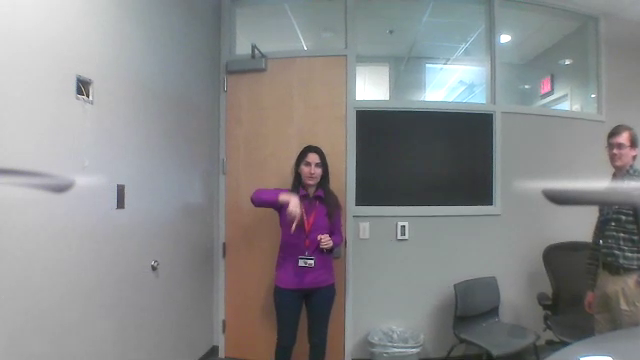down: (284, 190, 303, 235)
